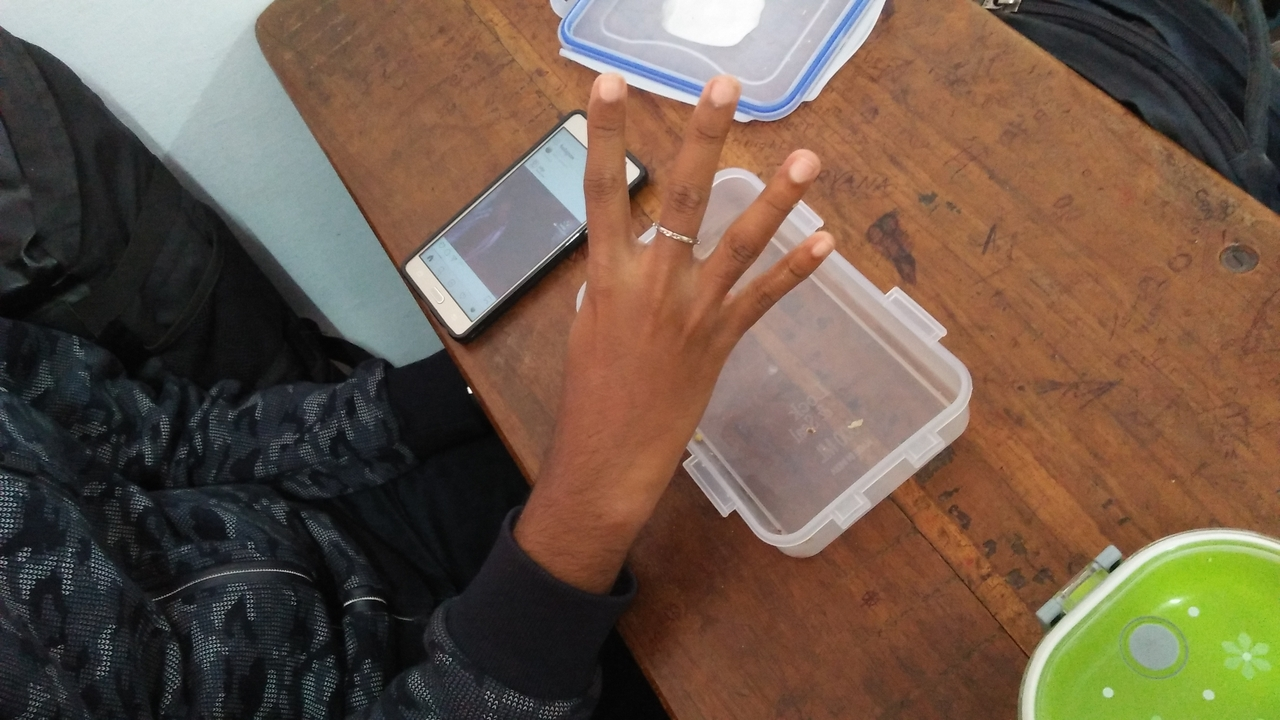fingertip: (766, 132, 834, 192), (690, 66, 744, 116), (582, 62, 636, 108), (797, 231, 848, 271)
